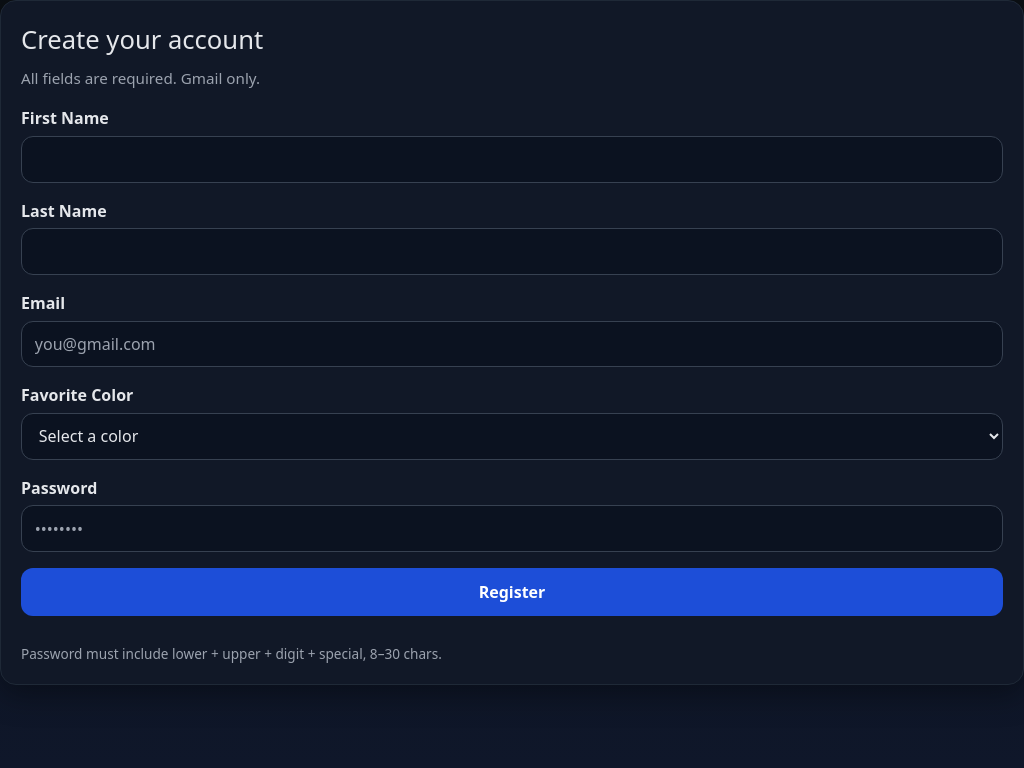
Scenario: RegistrationForm › fails uniqueness check for test@gmail.com
Type "A" into the field labelled "First Name" at (512, 159), box [21, 136, 1003, 183]
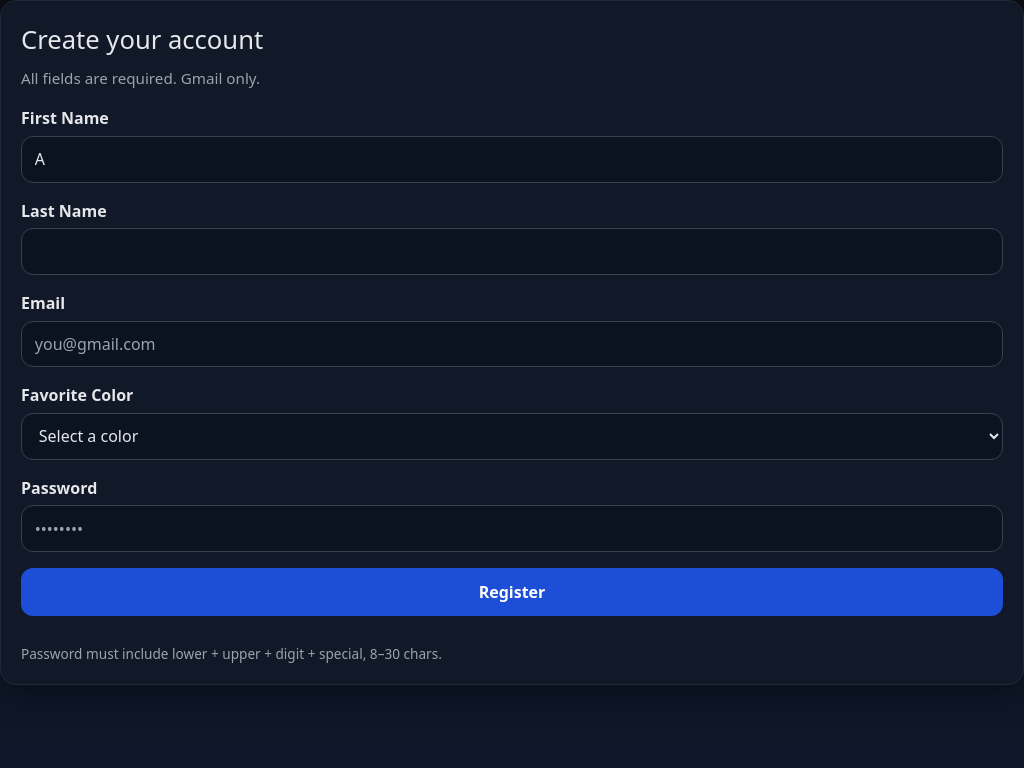
Type "B" into the field labelled "Last Name" at (512, 252), box [21, 228, 1003, 275]
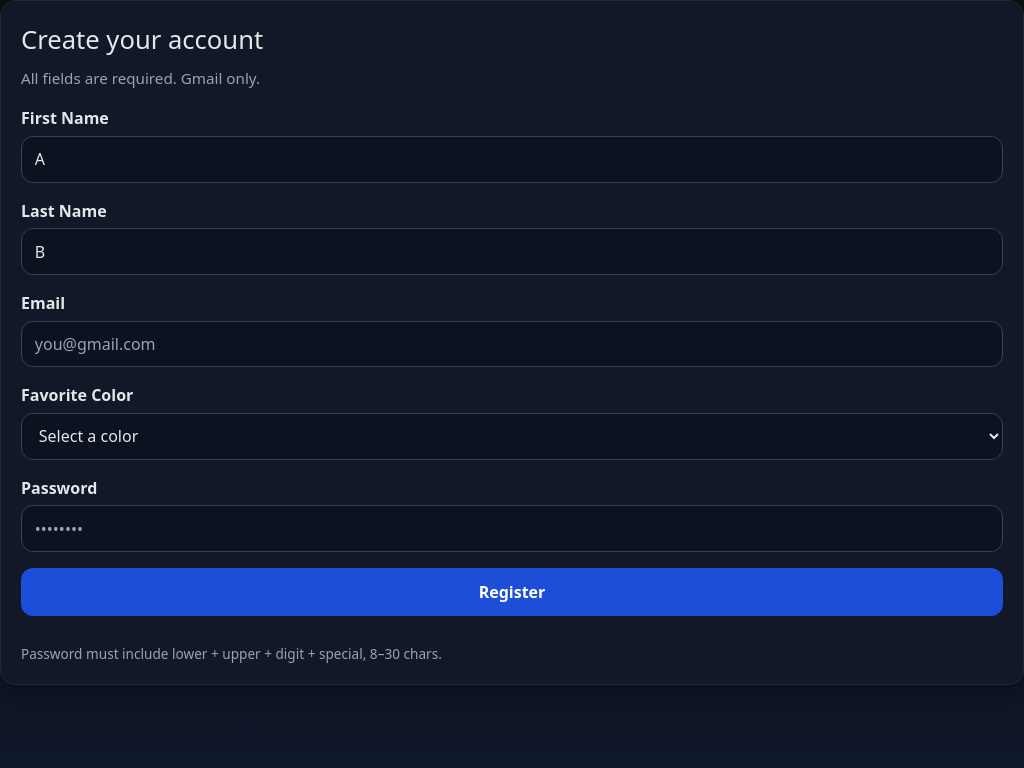
Type "test@gmail.com" into the field labelled "Email" at (512, 344), box [21, 320, 1003, 367]
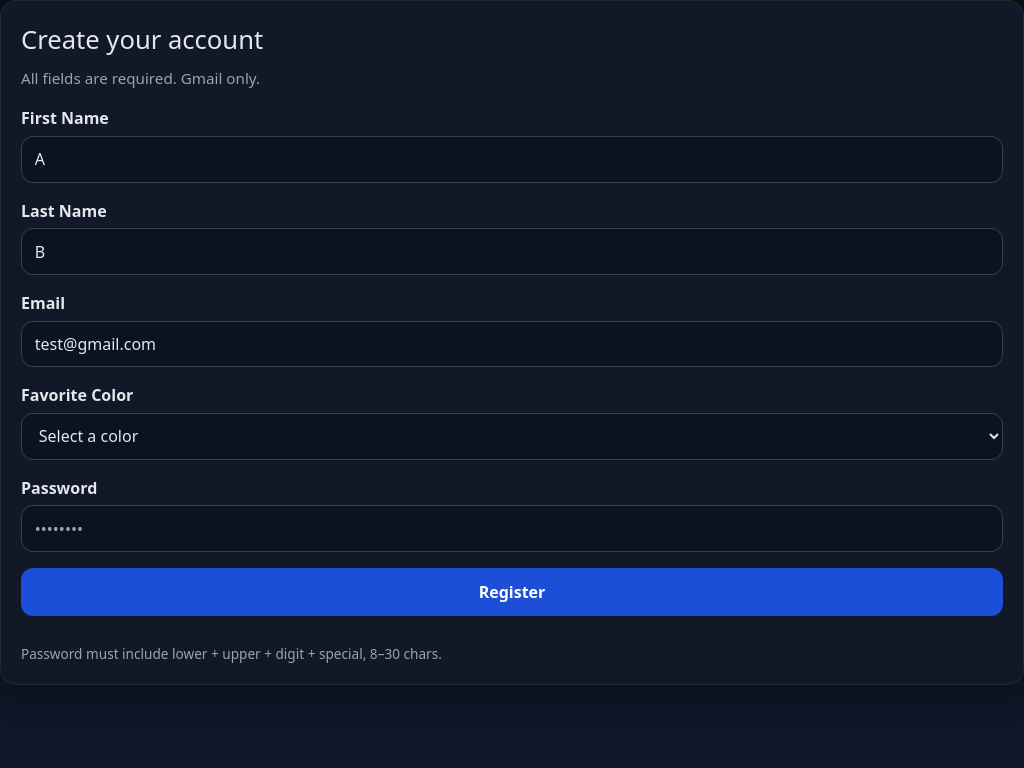
Type "Abcdef1!" into the password field labelled "Password" at (512, 529), box [21, 505, 1003, 552]
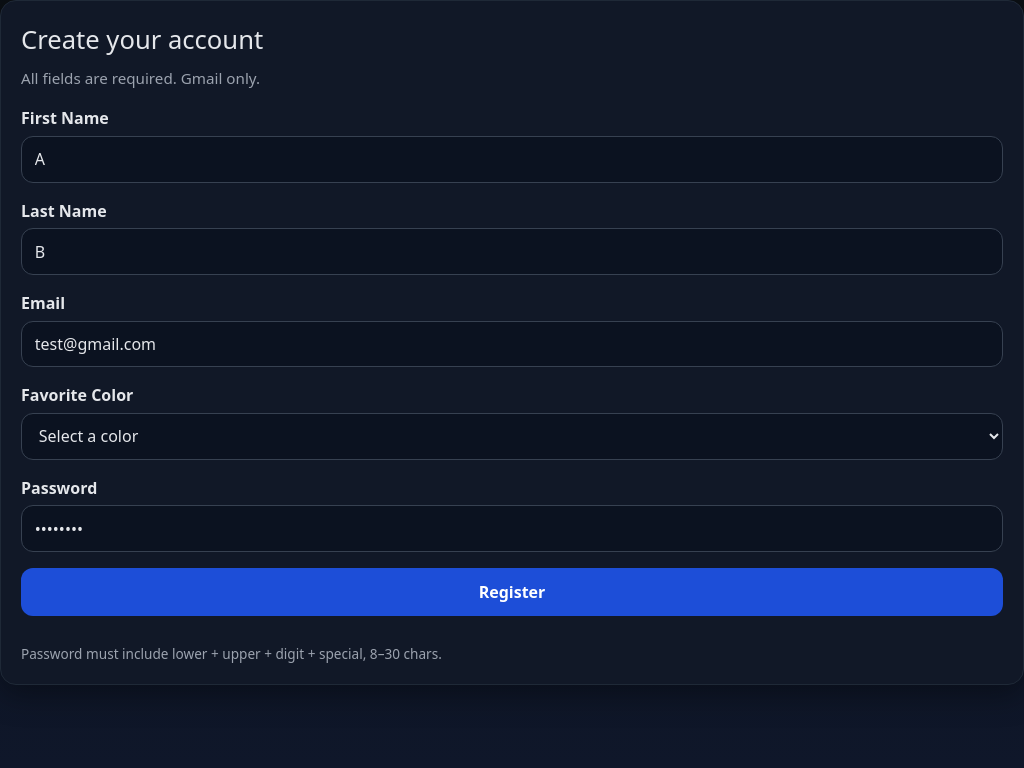
Click the button "Register" at (512, 592), box [21, 568, 1003, 616]
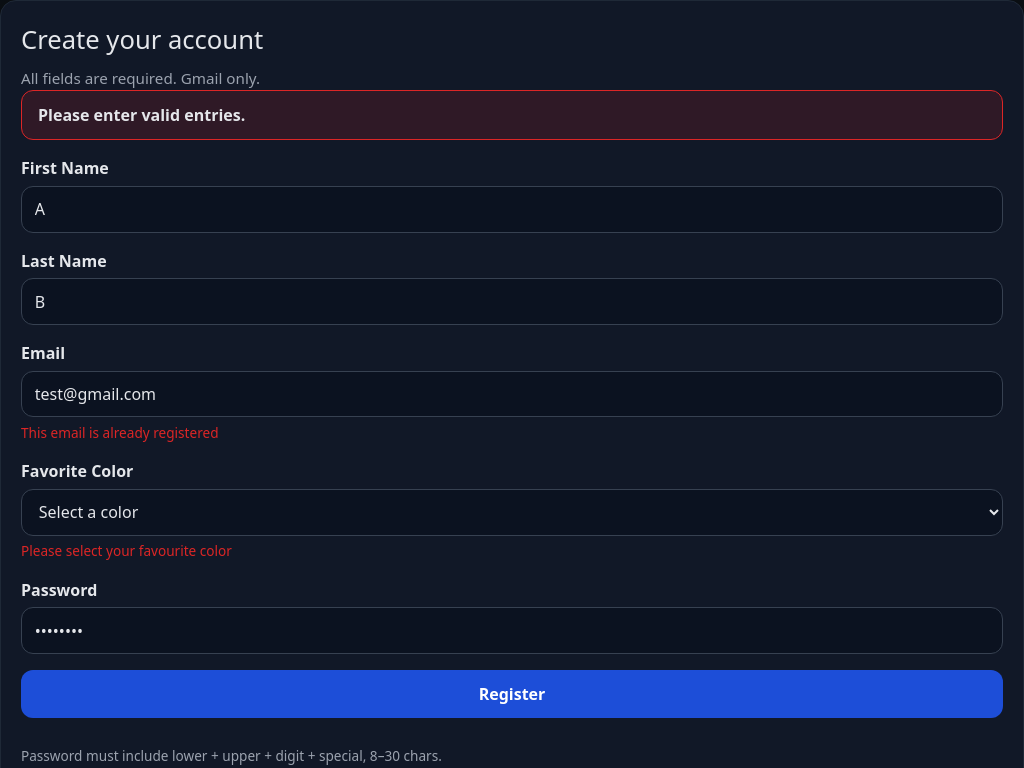
Now the text "This email is already registered" is shown, box [21, 423, 218, 442]
